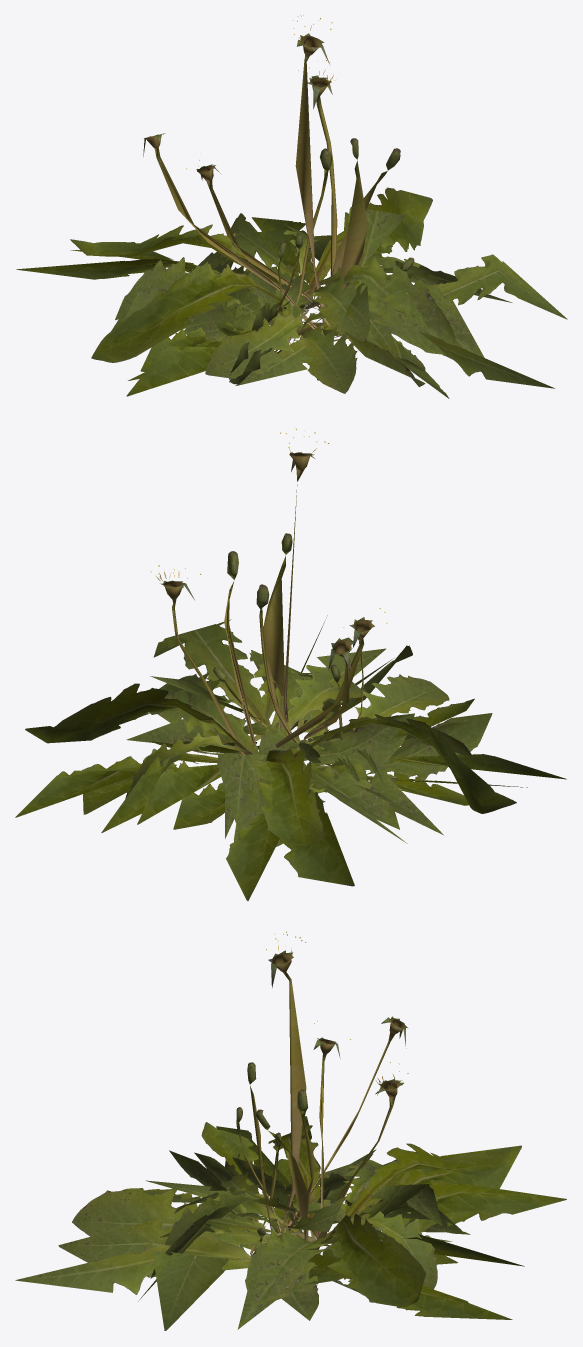
Rendered from pissenlit.glb.
3 renders of one model, top to bottom at view 1: azimuth 30°, elevation 25°; view 2: azimuth 150°, elevation 25°; view 3: azimuth 270°, elevation 25°, orthographic. The views are drawn at different scales.
Visible parts, largest first — view 1: dandelion_01_e_LOD0, dandelion_01_a_LOD0, dandelion_01_b_LOD0, dandelion_01_c_LOD0, dandelion_01_d_LOD0; view 2: dandelion_01_e_LOD0, dandelion_01_a_LOD0, dandelion_01_b_LOD0, dandelion_01_c_LOD0, dandelion_01_d_LOD0; view 3: dandelion_01_e_LOD0, dandelion_01_a_LOD0, dandelion_01_b_LOD0, dandelion_01_c_LOD0, dandelion_01_d_LOD0.
Boxes of the visible parts, bbox=[...] form: dandelion_01_e_LOD0: bbox=[70, 187, 481, 386]; dandelion_01_a_LOD0: bbox=[70, 15, 567, 396]; dandelion_01_b_LOD0: bbox=[16, 58, 512, 398]; dandelion_01_c_LOD0: bbox=[140, 148, 357, 393]; dandelion_01_d_LOD0: bbox=[184, 242, 425, 384]; dandelion_01_e_LOD0: bbox=[25, 645, 516, 846]; dandelion_01_a_LOD0: bbox=[82, 428, 566, 900]; dandelion_01_b_LOD0: bbox=[15, 551, 527, 886]; dandelion_01_c_LOD0: bbox=[126, 584, 472, 842]; dandelion_01_d_LOD0: bbox=[150, 664, 492, 846]; dandelion_01_e_LOD0: bbox=[72, 1116, 511, 1306]; dandelion_01_a_LOD0: bbox=[15, 931, 566, 1330]; dandelion_01_b_LOD0: bbox=[58, 1020, 524, 1329]; dandelion_01_c_LOD0: bbox=[144, 1089, 470, 1320]; dandelion_01_d_LOD0: bbox=[142, 1122, 444, 1284].
Bounding box in the file's own units: 0.2201 × 0.1633 × 0.2577.
1 material, 1 textured.
